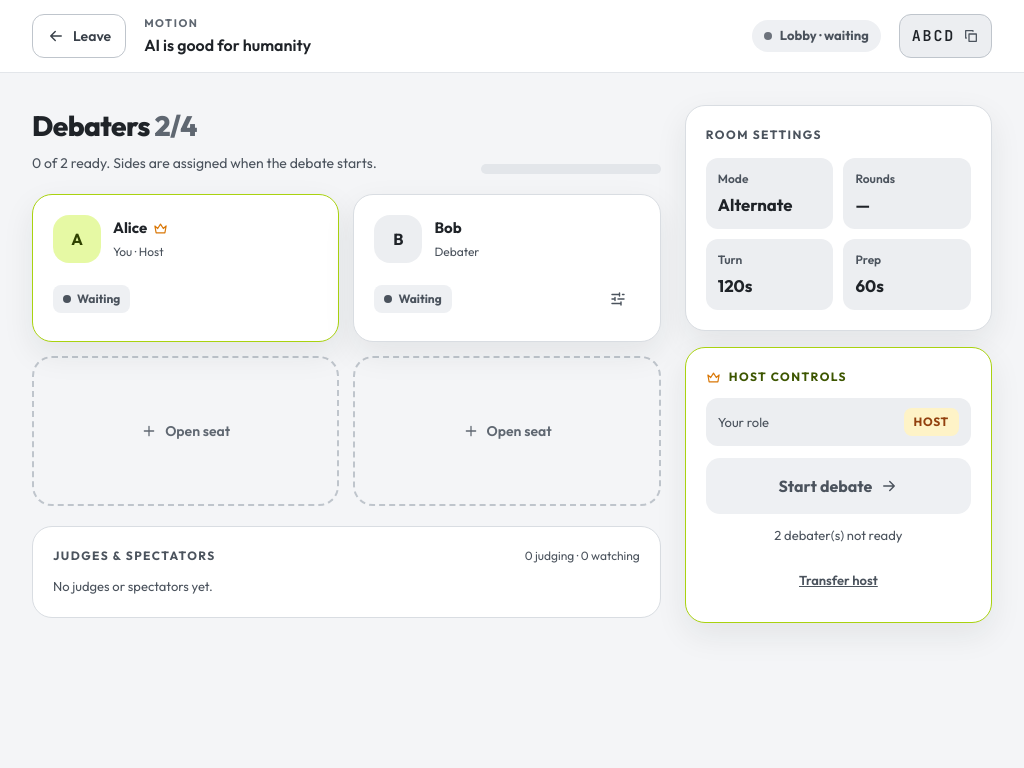
Test: RoomLobby › host controls › clicking outside menu closes it
Click the button titled "Manage": click(618, 299) [596,277,640,321]
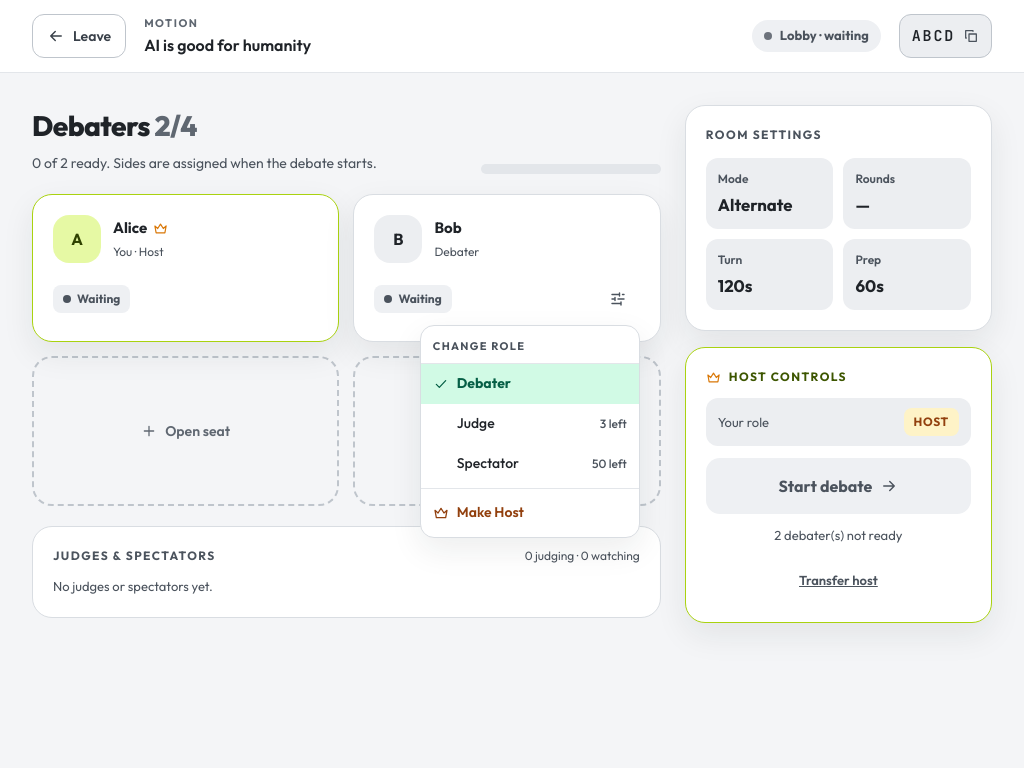
Check: the text "Change Role" is shown, box [421,330,639,364]
Note: Click elsewhere on the page (the motion in the room header)
Click the text "AI is good for humanity": click(228, 45) [144,35,311,55]
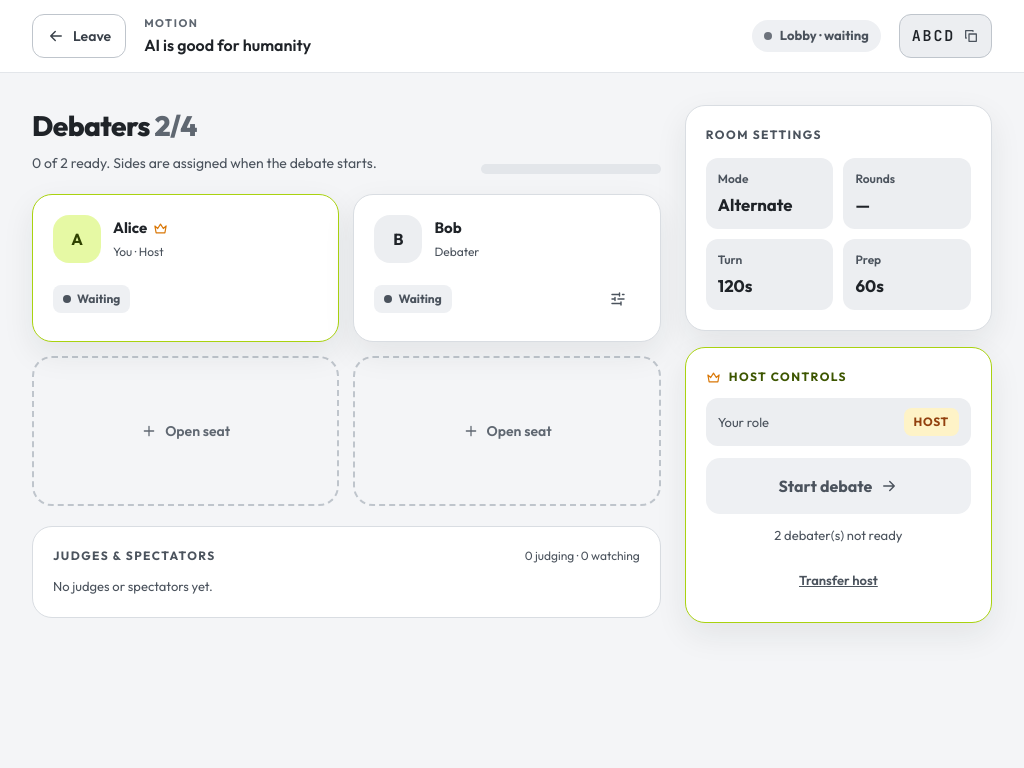
Check: the text "Change Role" is gone
